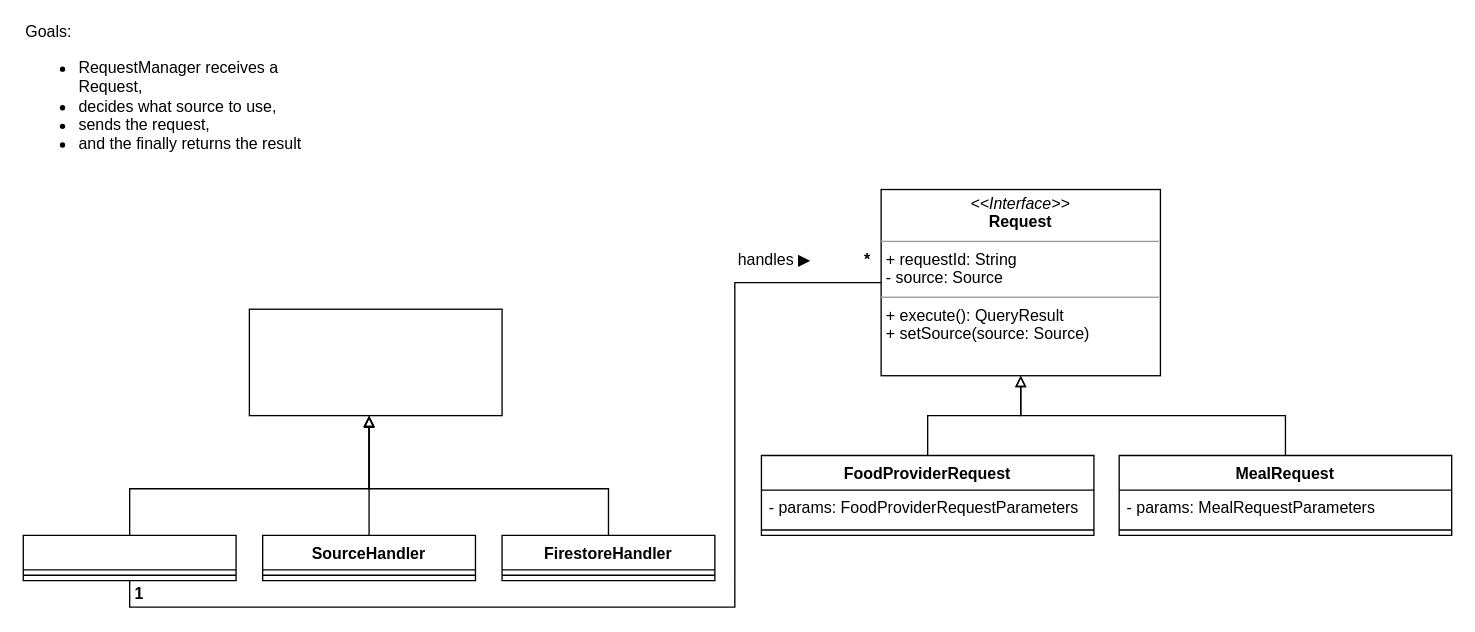
Some shapes in this 1475 by 632 pixel diagram are drawn without their labels. The centre of each missing label's shape, as x and y in pixels:
"<<Interface>> Handler + setNext(h: Handler) + handle(request: Request)" belongs at (x=375, y=362).
"RequestHandler" belongs at (x=129, y=557).
